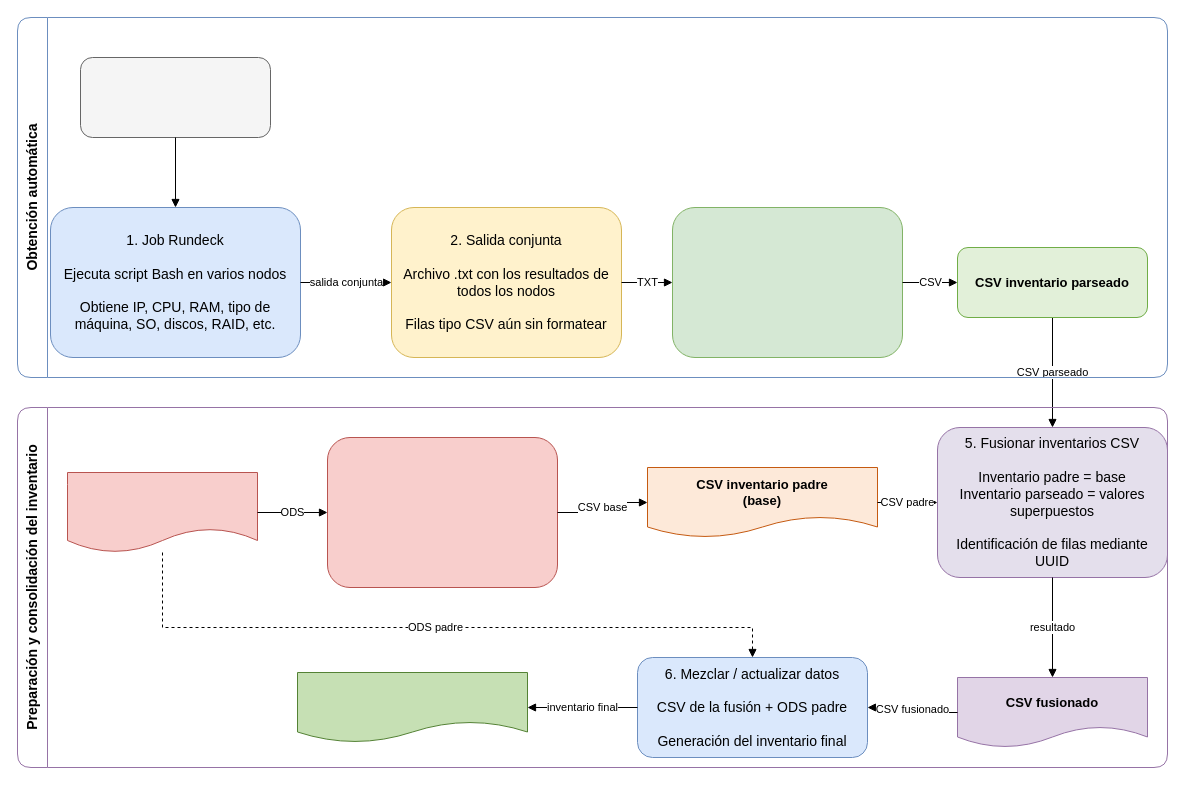
The diagram is 1185 pixels wide and 785 high, and some of its shapes have lost their labels. Here are the shapes that lost their labels. From the top down, the centre of each, then its label:
(175,97): Varios nodos Nodos físicos / VMs / Hipervisores
(787,282): 3. Parsear salida TXT → CSV Normalización y validación de registros
(162,512): Inventario padre .ods
(442,512): 4. Preparar inventario padre ODS LibreOffice → CSV Fuente única de verdad
(412,707): Inventario final (ODS actualizado)
